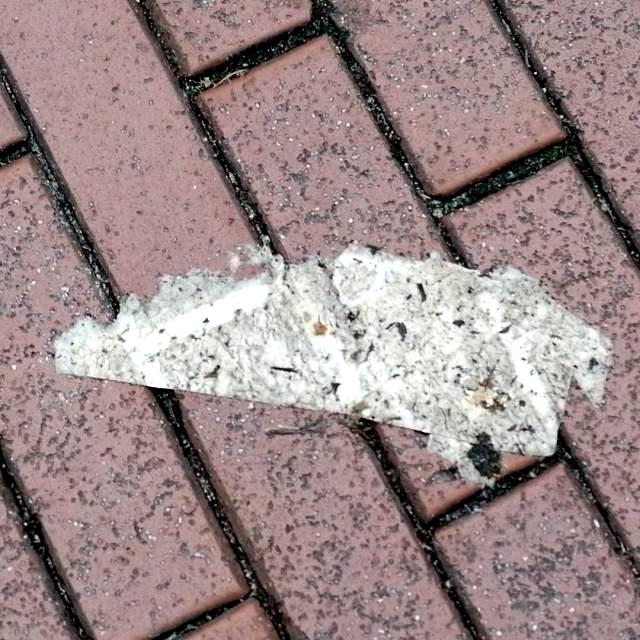Paper: (49, 234, 616, 490)
